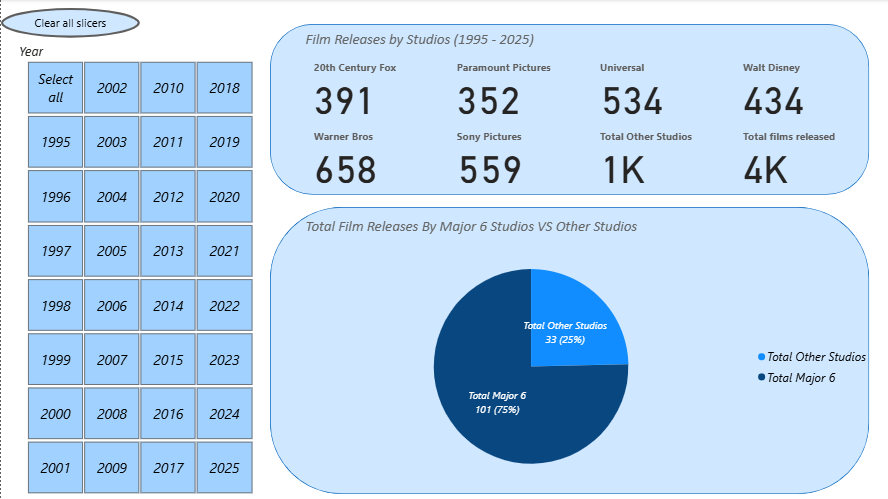

This screenshot's page, from the dashboard's own definition file:
{"tool":"powerbi","page":{"name":"Film releases by studios over time","canvas":[1280,720],"ordinal":3},"visuals":[{"type":"shape","box":[387.9,35.9,862.9,245.8],"z":0,"group":"g1"},{"type":"group","id":"g1","title":"Group 1","box":[387.9,35.9,873.3,681.9],"z":0},{"type":"slicer","fields":{"Values":["Table 1 (Sheet1).Year"]},"box":[13.7,58.1,372.6,661.4],"z":1000},{"type":"shape","box":[388.3,299.1,862.9,413.3],"z":1000,"group":"g1"},{"type":"actionButton","box":[0,13.7,199.9,42.7],"z":2000},{"type":"cardVisual","title":"Film Releases by Studios (1995 - 2025)","fields":{"Data":["Table 1 (Sheet1).20th Century Fox","Table 1 (Sheet1).Paramount Pictures","Table 1 (Sheet1).Universal","Table 1 (Sheet1).Walt Disney","Table 1 (Sheet1).Warner Bros","Table 1 (Sheet1).Sony Pictures","Table 1 (Sheet1).Total Other Studios","Table 1 (Sheet1).Total films released"]},"box":[434.1,44.4,827.1,227.3],"z":3000},{"type":"image","box":[1203.7,0,76.3,60.5],"z":4000},{"type":"pieChart","title":"Total Film Releases By Major 6 Studios VS Other Studios","fields":{"Y":["Table 1 (Sheet1).Total Other Studios","Table 1 (Sheet1).Total Major 6"]},"box":[434.4,313.4,826.7,404.4],"z":4001,"group":"g1"}]}

Visuals, with their boxes in screenshot pixels (x1, y1, x2, y2), scaled from the page's 1280x720 canvas onto the 888x499 screenshot:
shape: <region>269, 25, 868, 195</region>
"Group 1" group: <region>269, 25, 875, 497</region>
slicer - Table 1 (Sheet1).Year: <region>10, 40, 268, 498</region>
shape: <region>269, 207, 868, 494</region>
actionButton: <region>0, 9, 139, 39</region>
"Film Releases by Studios (1995 - 2025)" cardVisual: <region>301, 31, 875, 188</region>
image: <region>835, 0, 887, 42</region>
"Total Film Releases By Major 6 Studios VS Other Studios" pieChart: <region>301, 217, 875, 497</region>
